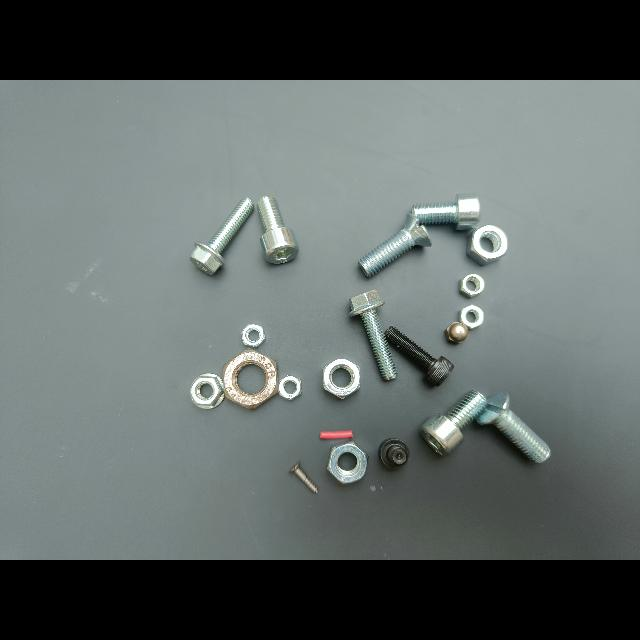bolt: (475, 392, 551, 463), (190, 198, 255, 275), (359, 214, 431, 277), (421, 390, 487, 455), (350, 290, 397, 380), (384, 326, 454, 386), (257, 196, 299, 264), (404, 194, 480, 230), (378, 438, 410, 468), (289, 462, 318, 493)
nuts: (223, 349, 278, 409), (327, 441, 368, 484), (466, 225, 507, 266), (323, 358, 360, 399), (190, 373, 225, 409), (458, 305, 484, 329), (459, 274, 484, 298), (278, 375, 302, 400), (242, 324, 265, 348), (444, 322, 469, 344)
